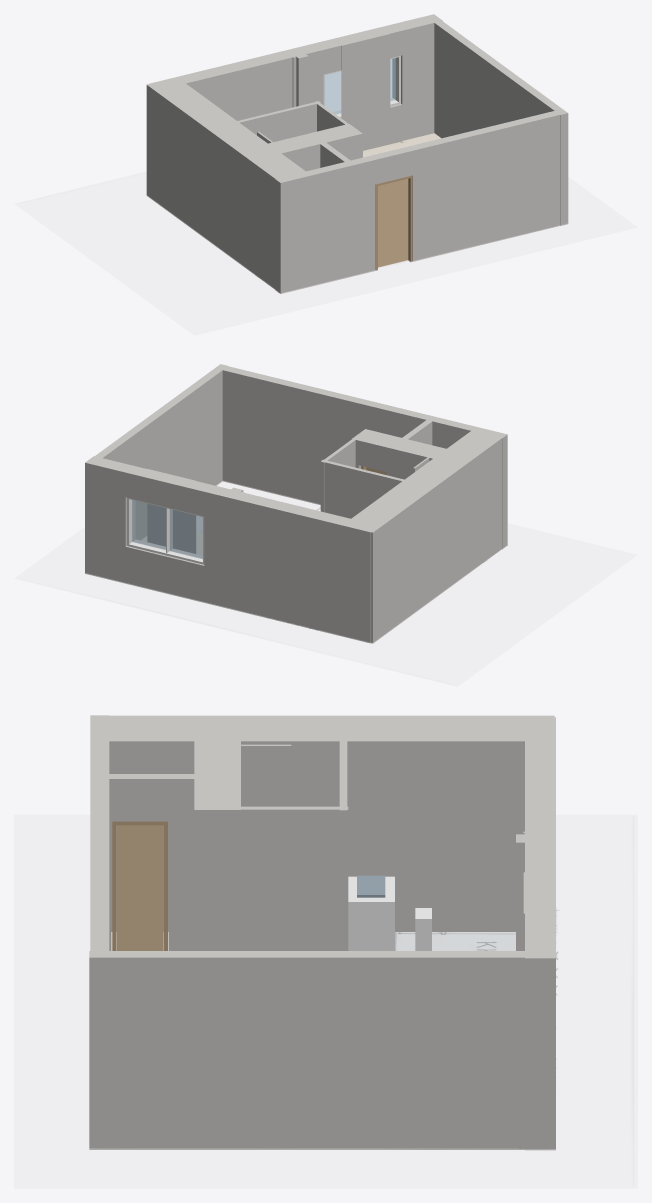
3 views of the same model, one above another, from view 1: azimuth 30°, elevation 25°; view 2: azimuth 150°, elevation 25°; view 3: azimuth 270°, elevation 25° (orthographic). The views are drawn at different scales.
Visible parts, largest first — view 1: wall-042, plan_floor, wall-017, wall-001, wall-035, wall-025, wall-040, door-003:leaf, wall-038, window-002:glass, door-003:frame, wall-022 (+4 smaller); view 2: wall-001, plan_floor, wall-042, wall-017, wall-035, wall-040, wall-038, window-002:glass, wall-025, window-002:frame, wall-037, wall-041; view 3: wall-035, plan_floor, wall-017, wall-037, wall-001, wall-040, wall-041, door-002:leaf, wall-042, wall-039, sink-001:body, room-002 (+5 smaller).
Part boxes in pixels (<box>): wall-042: <box>275,111,565,293</box>; plan_floor: <box>15,133,637,335</box>; wall-017: <box>146,78,309,289</box>; wall-001: <box>149,14,442,143</box>; wall-035: <box>429,17,568,225</box>; wall-025: <box>337,29,390,150</box>; wall-040: <box>237,124,362,271</box>; door-003:leaf: <box>378,178,408,267</box>; wall-038: <box>211,101,321,141</box>; window-002:glass: <box>325,58,395,114</box>; door-003:frame: <box>375,175,412,270</box>; wall-022: <box>294,51,308,106</box>; wall-001: <box>85,456,378,643</box>; plan_floor: <box>14,480,636,686</box>; wall-042: <box>221,365,507,549</box>; wall-017: <box>347,430,505,643</box>; wall-035: <box>87,364,227,540</box>; wall-040: <box>352,429,477,576</box>; wall-038: <box>320,459,433,518</box>; window-002:glass: <box>132,500,202,558</box>; wall-025: <box>139,469,195,560</box>; window-002:frame: <box>127,497,204,564</box>; wall-037: <box>321,437,358,512</box>; wall-041: <box>393,416,436,448</box>; wall-035: <box>89,951,551,1149</box>; plan_floor: <box>14,815,637,1188</box>; wall-017: <box>91,715,554,931</box>; wall-037: <box>230,806,348,950</box>; wall-001: <box>525,717,555,1150</box>; wall-040: <box>194,716,240,950</box>; wall-041: <box>92,774,194,950</box>; door-002:leaf: <box>116,825,163,950</box>; wall-042: <box>90,715,109,950</box>; wall-039: <box>233,744,291,806</box>; sink-001:body: <box>348,876,394,950</box>; room-002: <box>395,932,515,950</box>.
Size of the model in its own units: 11.28 by 2.7 by 7.95.
12 materials, 1 textured.
